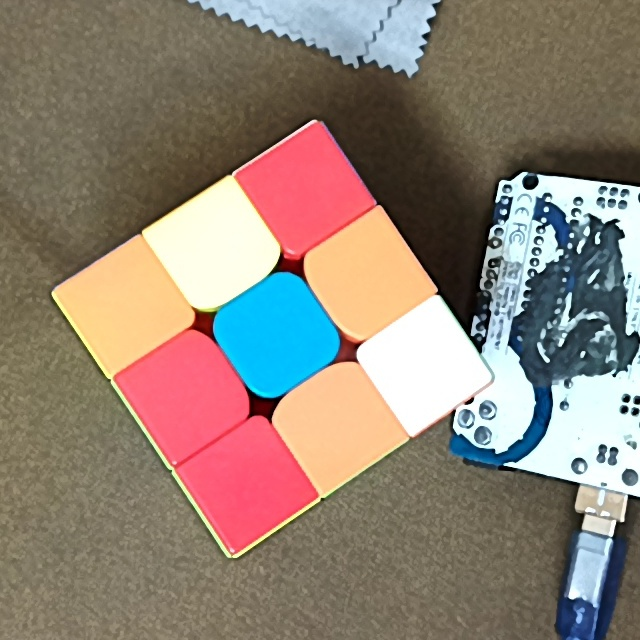tile: (87, 265, 164, 340), (301, 386, 377, 461), (149, 356, 222, 433), (240, 298, 315, 372), (329, 241, 404, 310), (177, 214, 253, 282), (388, 333, 463, 400), (218, 446, 286, 519), (270, 159, 340, 226)
